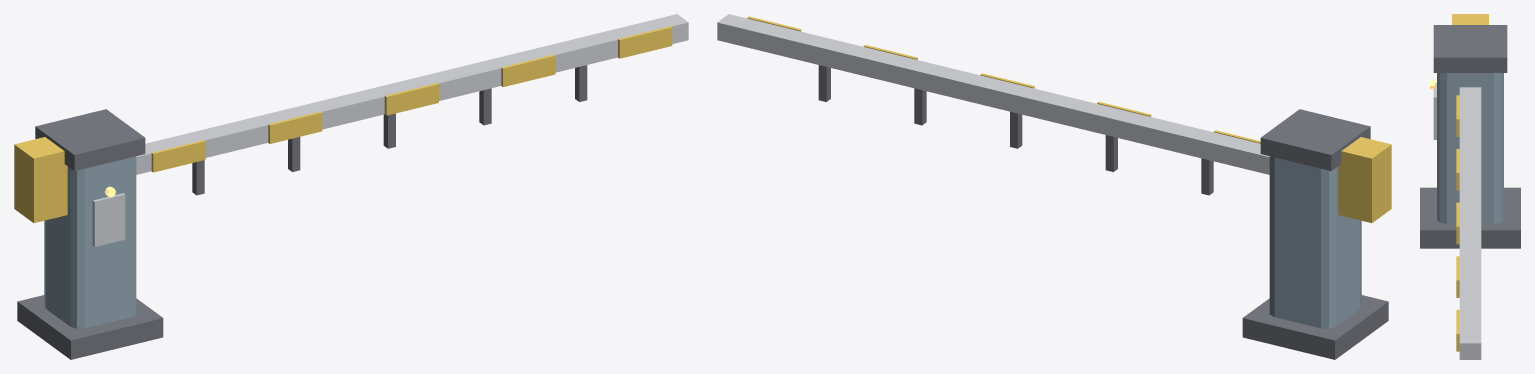
The model's file is animated-mechanisms-kit-gate-barrier-arm-30fad88a__24595.glb.
3 renders of one model, left to right at view 1: azimuth 30°, elevation 25°; view 2: azimuth 150°, elevation 25°; view 3: azimuth 270°, elevation 25°, orthographic. The views are drawn at different scales.
Visible parts, largest first — view 1: gate-barrier-arm, boom/steel, boom/accent, boom/iron; view 2: gate-barrier-arm, boom/steel, boom/accent, boom/iron; view 3: gate-barrier-arm, boom/steel, boom/accent.
Boxes of the visible parts, x1=… form: gate-barrier-arm: x1=17, y1=109, x2=163, y2=359; boom/steel: x1=136, y1=14, x2=688, y2=174; boom/accent: x1=14, y1=26, x2=672, y2=222; boom/iron: x1=192, y1=65, x2=587, y2=195; gate-barrier-arm: x1=1242, y1=109, x2=1388, y2=359; boom/steel: x1=717, y1=14, x2=1269, y2=174; boom/accent: x1=747, y1=16, x2=1391, y2=222; boom/iron: x1=818, y1=65, x2=1213, y2=195; gate-barrier-arm: x1=1420, y1=25, x2=1520, y2=248; boom/steel: x1=1459, y1=87, x2=1481, y2=359; boom/accent: x1=1452, y1=14, x2=1488, y2=351.
Size of the model in its own units: 4.27 by 1.22 by 0.5999.
